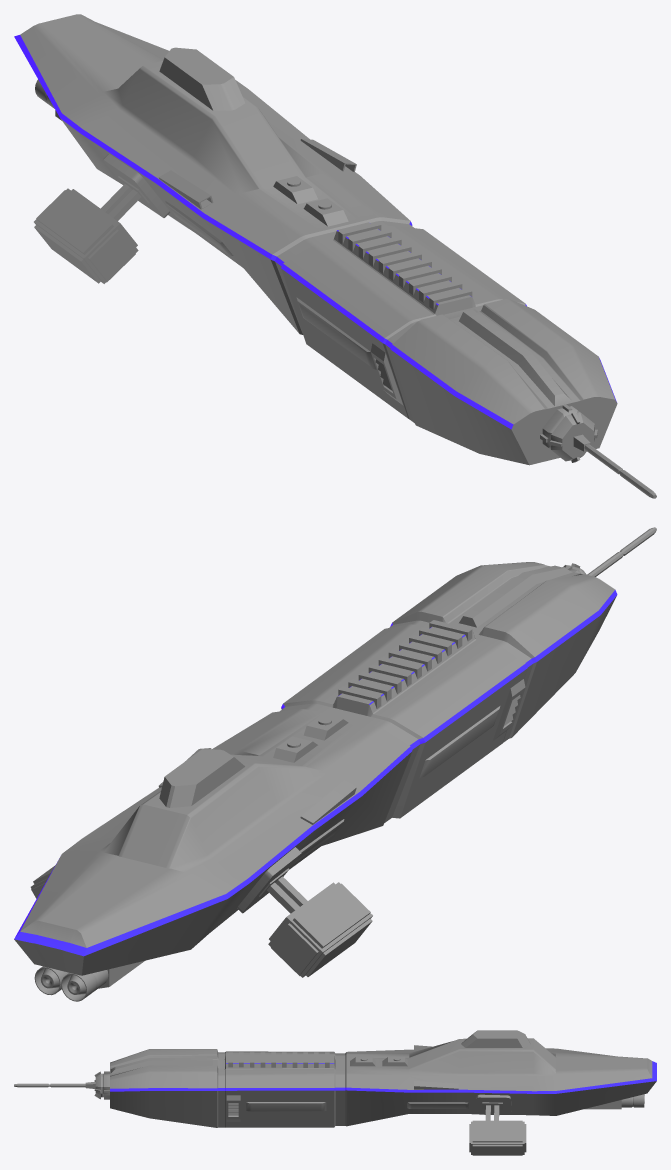
File: VR warship.fbx
The picture shows the model from 3 angles, top to bottom: view 1: azimuth 30°, elevation 25°; view 2: azimuth 150°, elevation 25°; view 3: azimuth 270°, elevation 25°; orthographic projection. The views are drawn at different scales.
Visible parts, largest first — view 1: pCube54; view 2: pCube54; view 3: pCube54.
Part boxes in pixels (x1=…): pCube54: x1=14, y1=14, x2=656, y2=498; pCube54: x1=14, y1=527, x2=656, y2=1001; pCube54: x1=14, y1=1030, x2=656, y2=1155.
Bounding box in the file's own units: 166 × 91.56 × 600.
